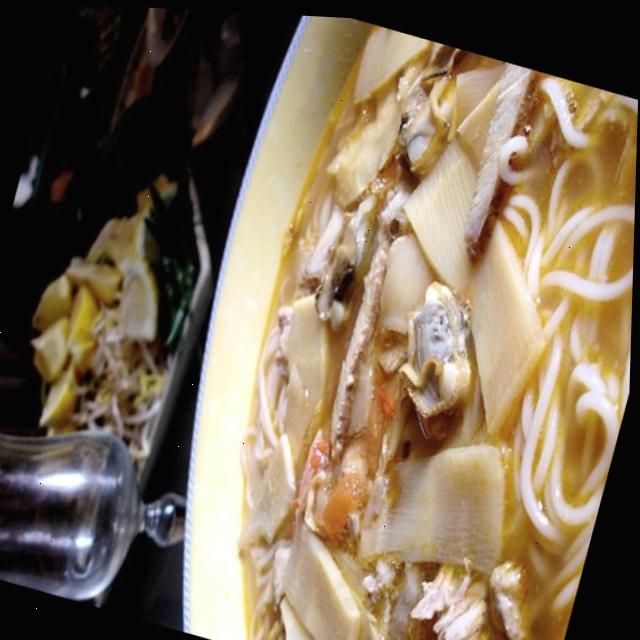面条主食: (132, 6, 640, 640)
